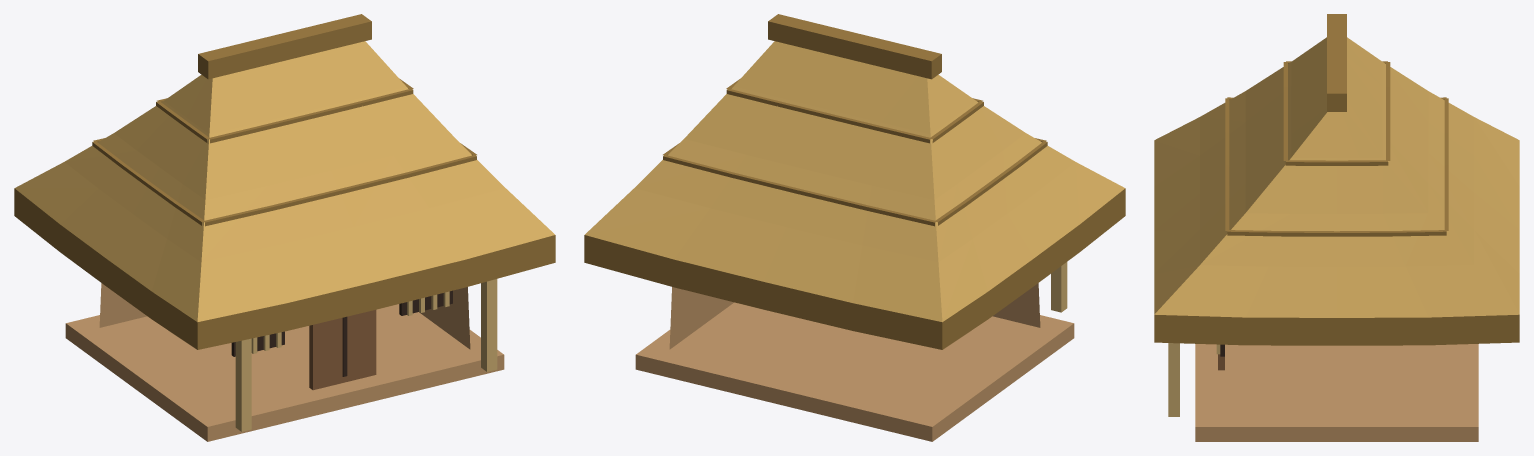
File: viet_house_thatch.glb
3 renders of one model, left to right at view 1: azimuth 30°, elevation 25°; view 2: azimuth 150°, elevation 25°; view 3: azimuth 270°, elevation 25°, orthographic.
Parts seen in each view (by area): view 1: viet_house_thatch; view 2: viet_house_thatch; view 3: viet_house_thatch.
Boxes of the visible parts, x1,y1,x2,y2 form: viet_house_thatch: (14, 14, 555, 441); viet_house_thatch: (584, 14, 1125, 441); viet_house_thatch: (1154, 14, 1519, 441).
Bounding box in the file's own units: 1 × 0.8443 × 0.8857.
